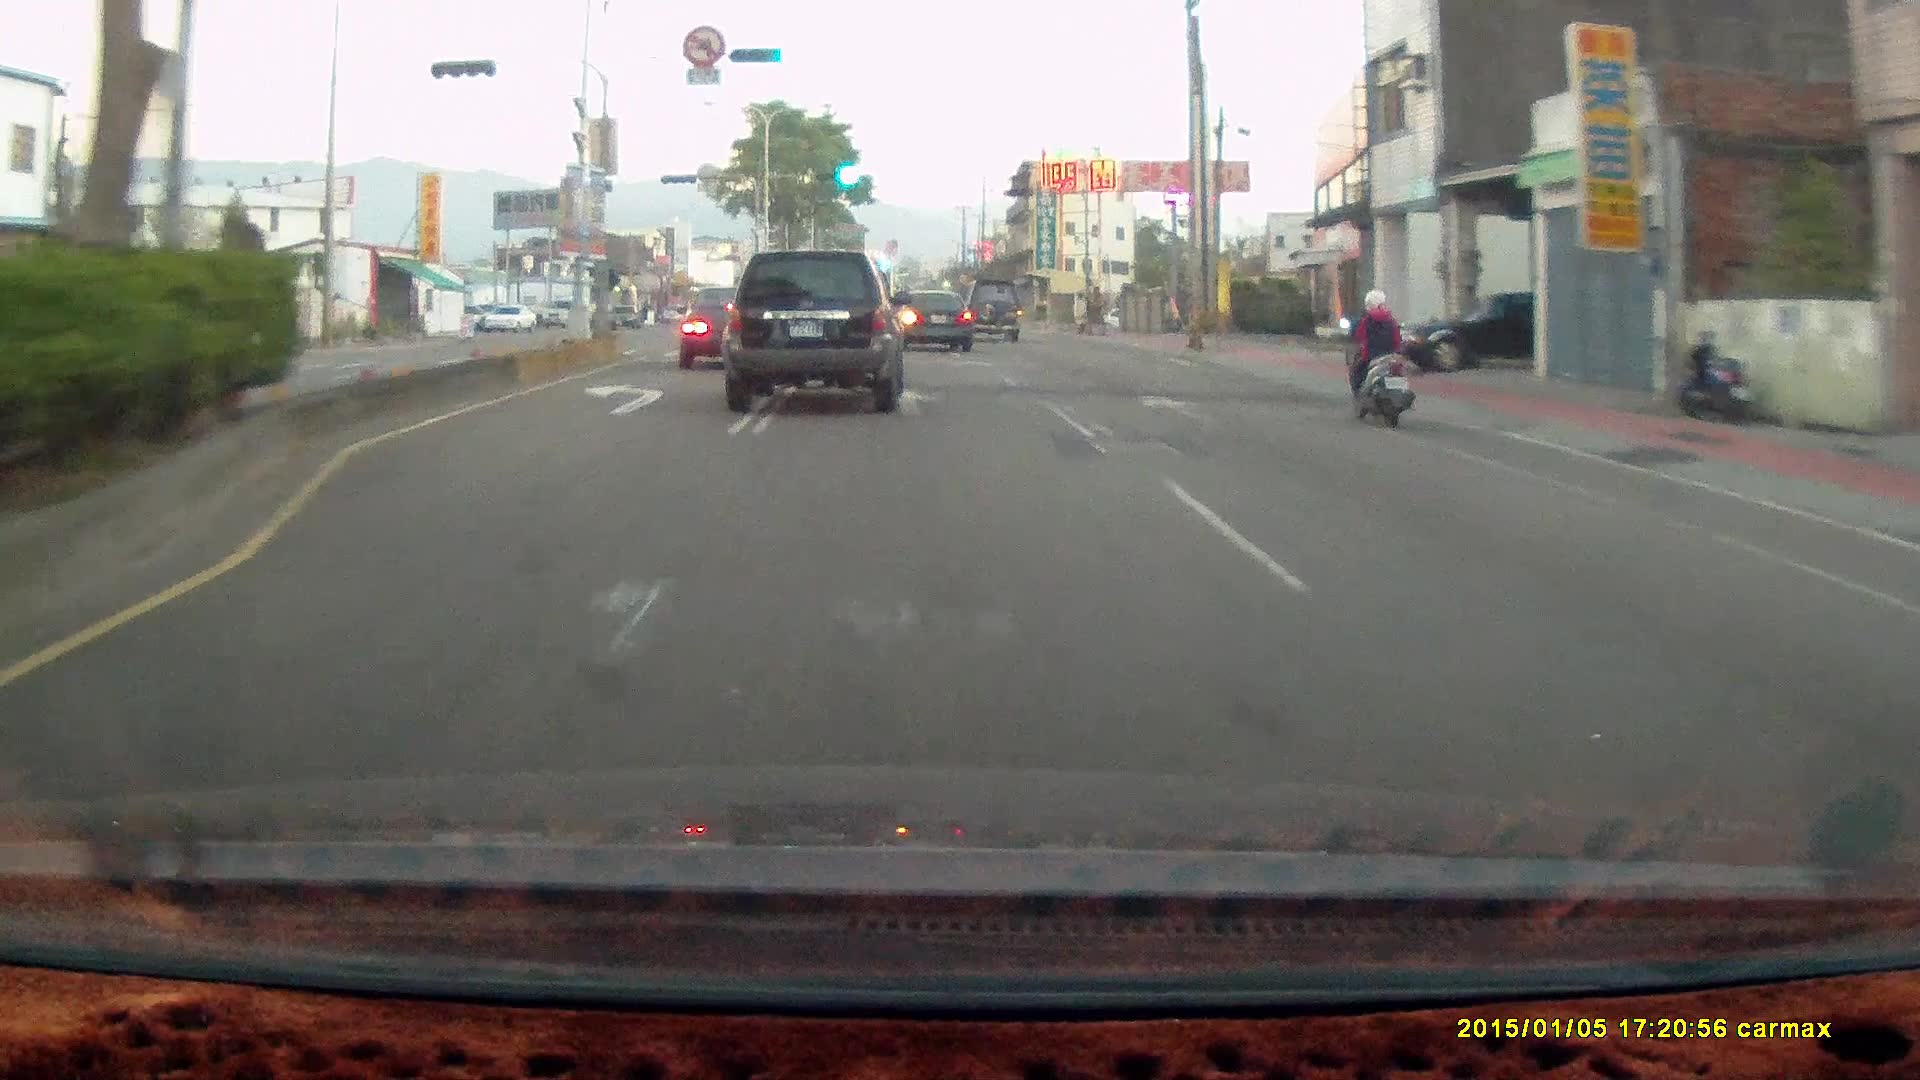rider: (1329, 278, 1427, 436), (1336, 287, 1416, 427)
vehicle: (715, 244, 911, 421), (721, 249, 912, 413), (1392, 287, 1602, 370), (1396, 291, 1551, 375), (680, 287, 790, 374), (676, 287, 784, 369), (893, 290, 977, 353), (892, 287, 973, 350), (959, 279, 1026, 346), (958, 276, 1023, 342), (481, 303, 538, 333), (539, 296, 590, 324)
